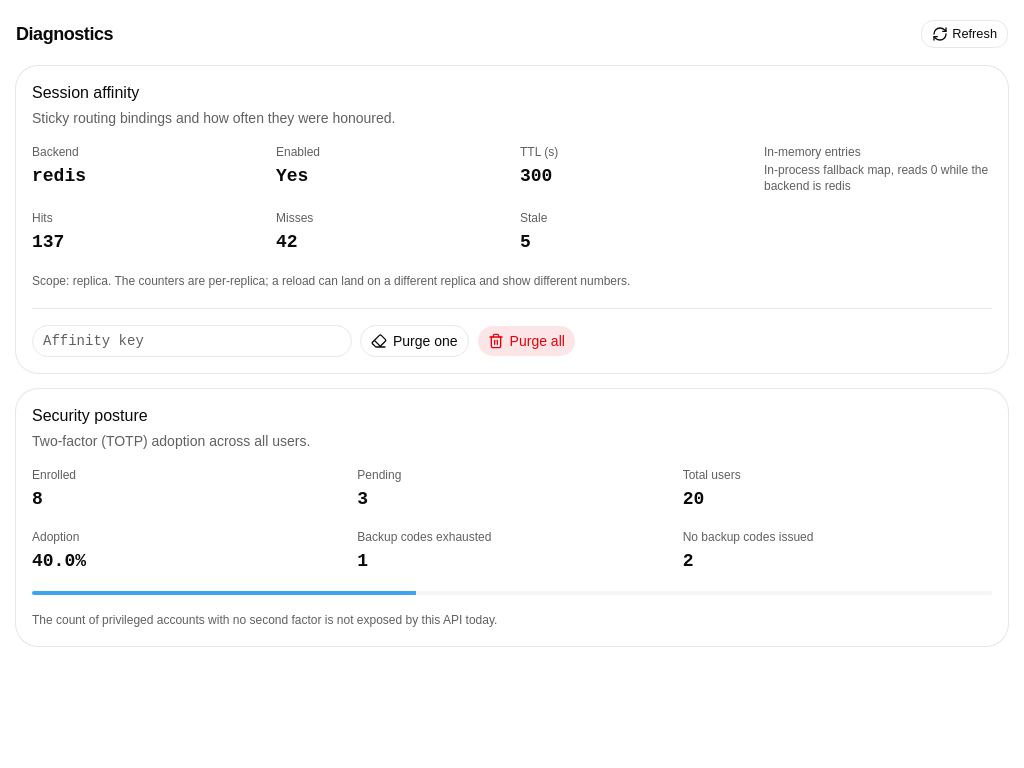
Test: purge one binding › reports "no such binding" on a 404 and leaves the numbers alone
Expected: the text "137" is shown, [32,232,64,252]
Type "stale-key" into the field with test id "diag-affinity-purge-key-input".
click(192, 340); type("stale-key")  # box [32,324,352,356]
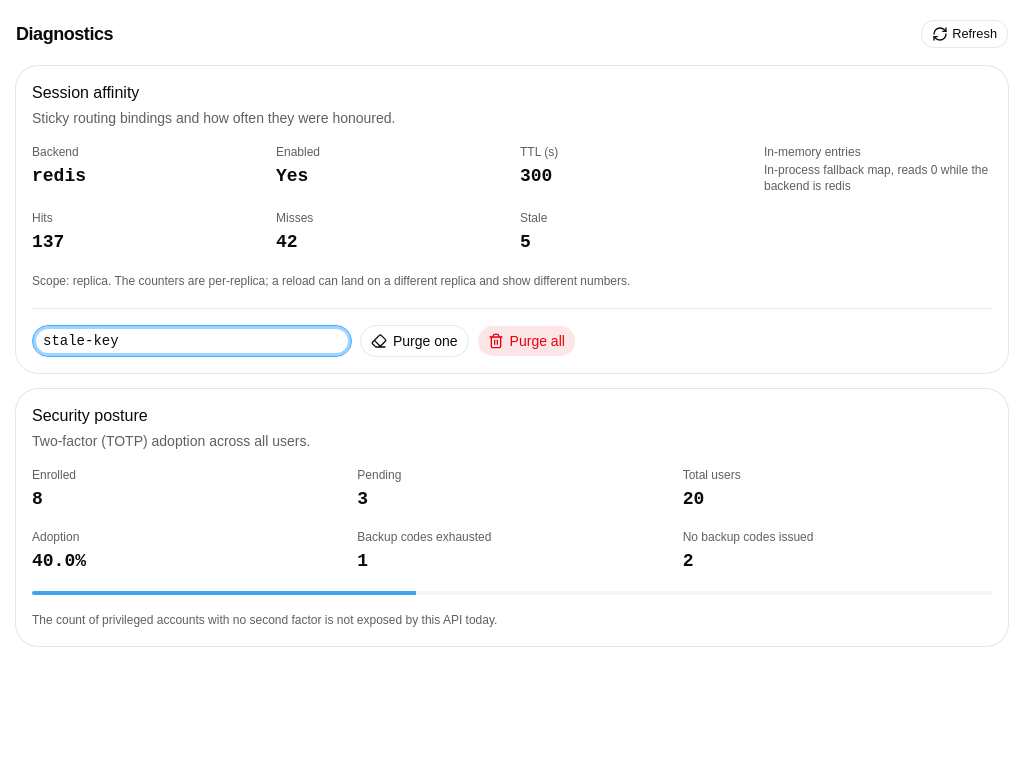
Click the button with test id "diag-affinity-purge-key-btn".
click(414, 340)  # box [360,324,469,356]
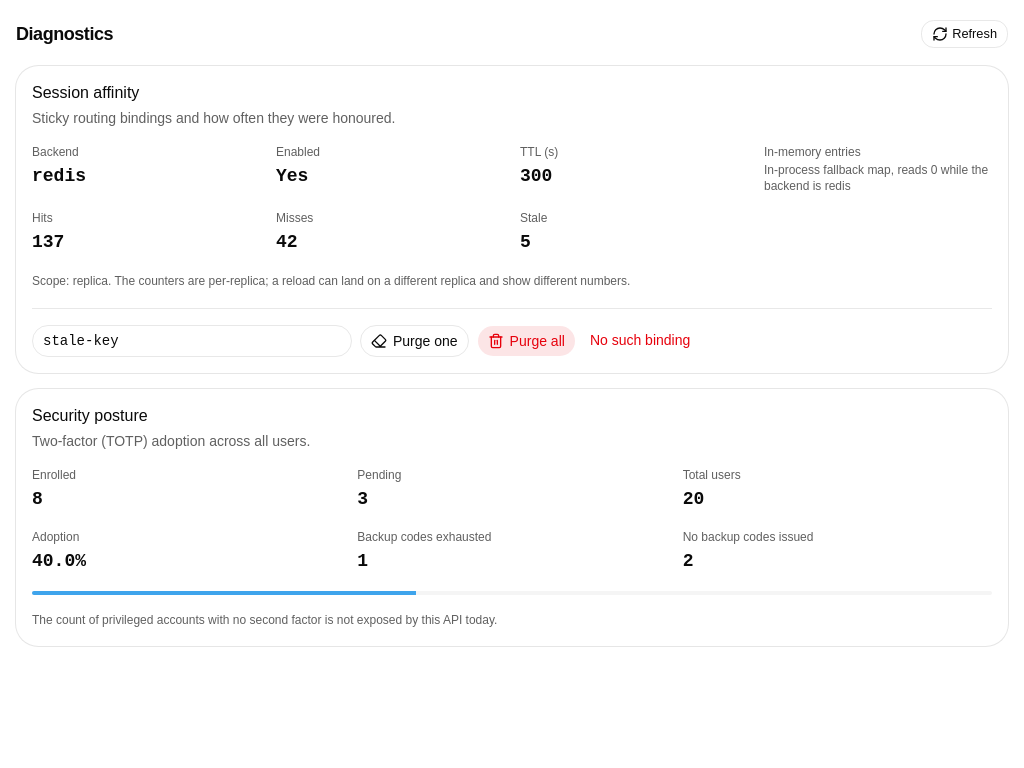
Result: the text "No such binding" is shown at [590,330,690,351]
